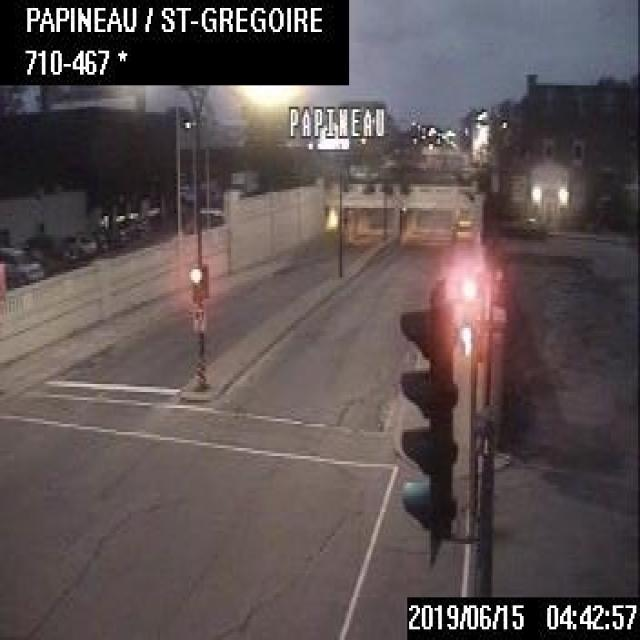vehicle: (0, 241, 44, 284)
